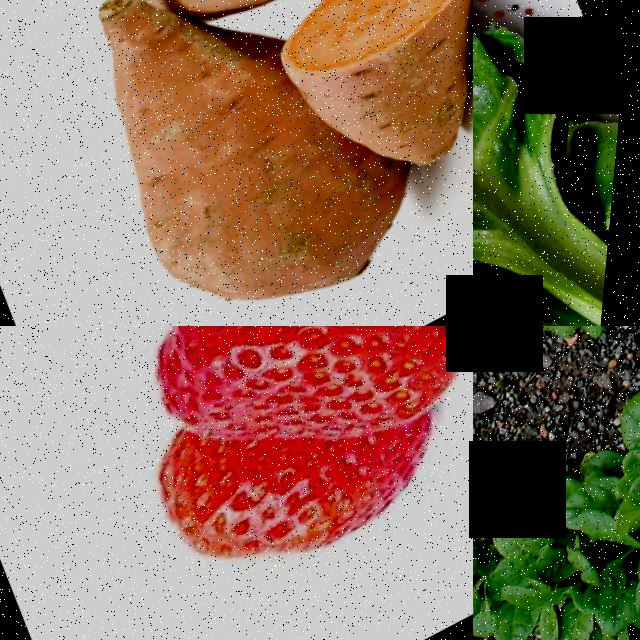spinach: (496, 490, 565, 567), (608, 366, 640, 480), (495, 598, 555, 640)
strawberry: (178, 409, 473, 630), (109, 326, 463, 450)
sweet potato: (84, 1, 336, 255), (148, 132, 443, 326), (257, 0, 473, 223), (118, 0, 428, 60)
